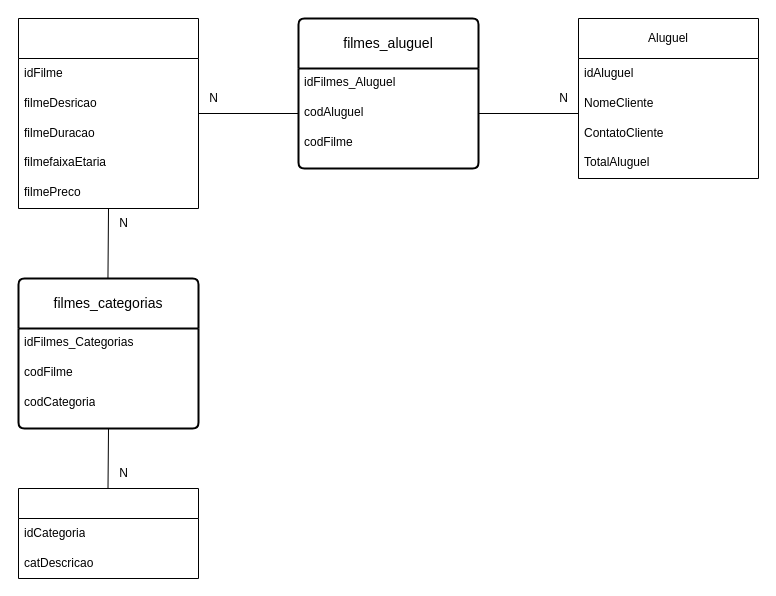
Image size: 776x596. Some labels were removed from this diagram. Here are the shapes that lost their labels. From the top down, the box of each, then its label:
(18, 18, 198, 208): filmes
(18, 488, 198, 578): categorias
